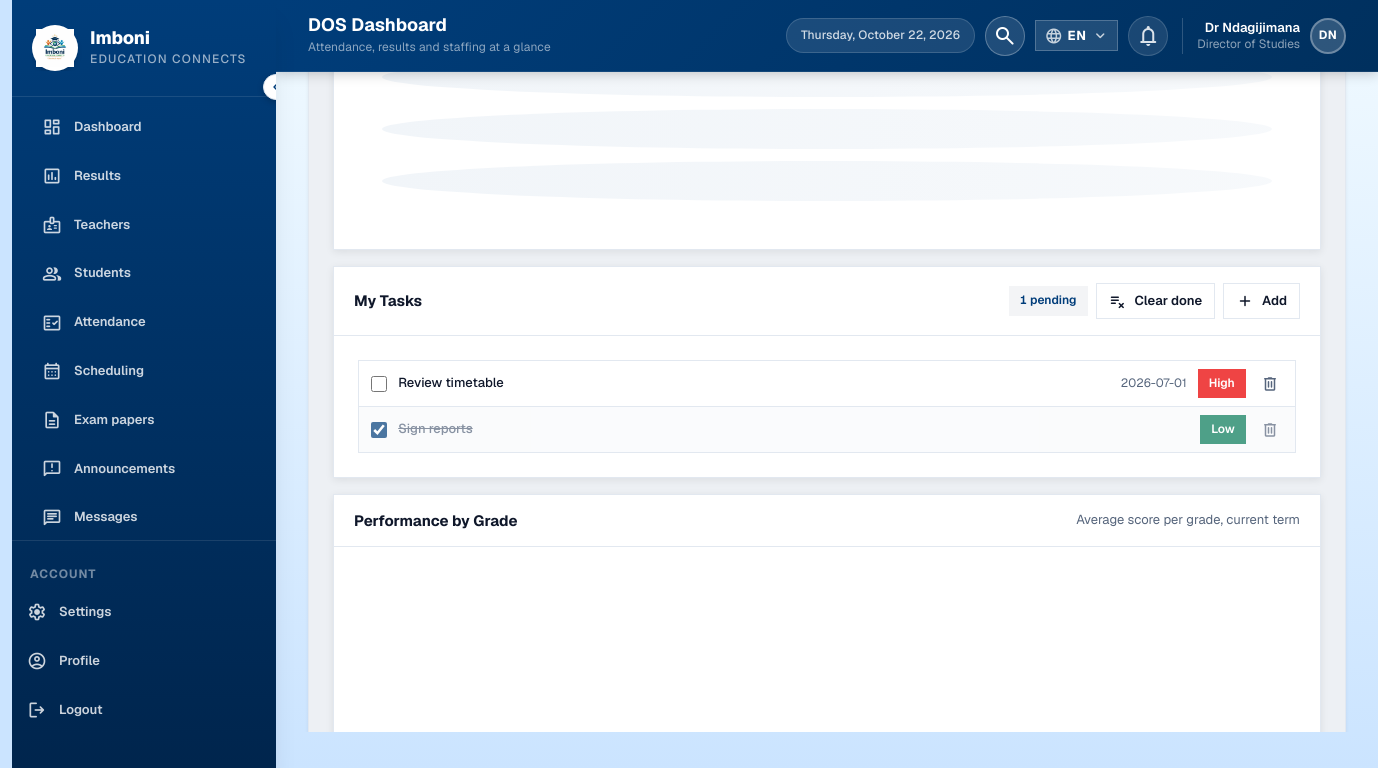
Test: DosDashboard › deletes a single task and drops it from the list
(page scrolled)
Expected: the text "Review timetable" is shown, [398, 374, 504, 391]
Click the button named "Delete \"Review timetable\"".
click(1270, 384)  # box [1257, 371, 1283, 397]
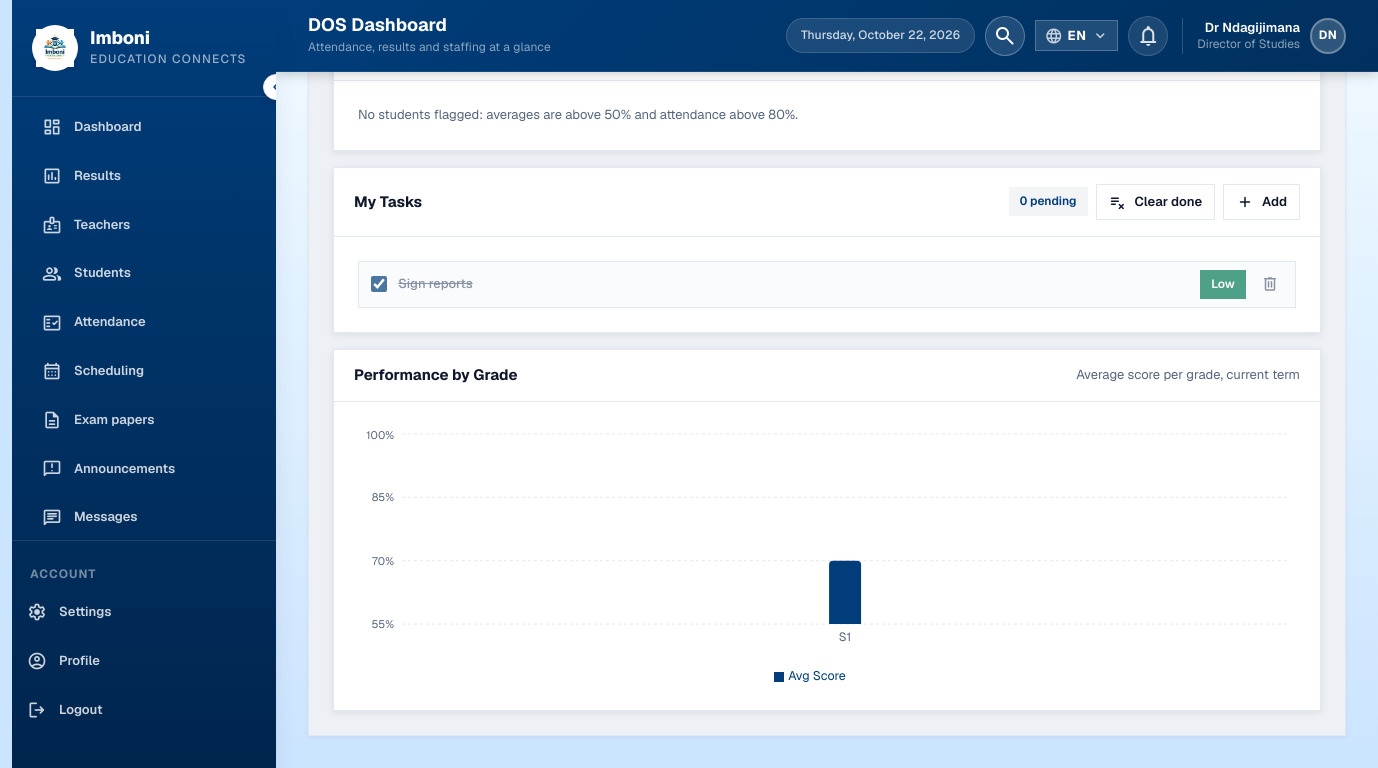
Now the text "Review timetable" is gone
